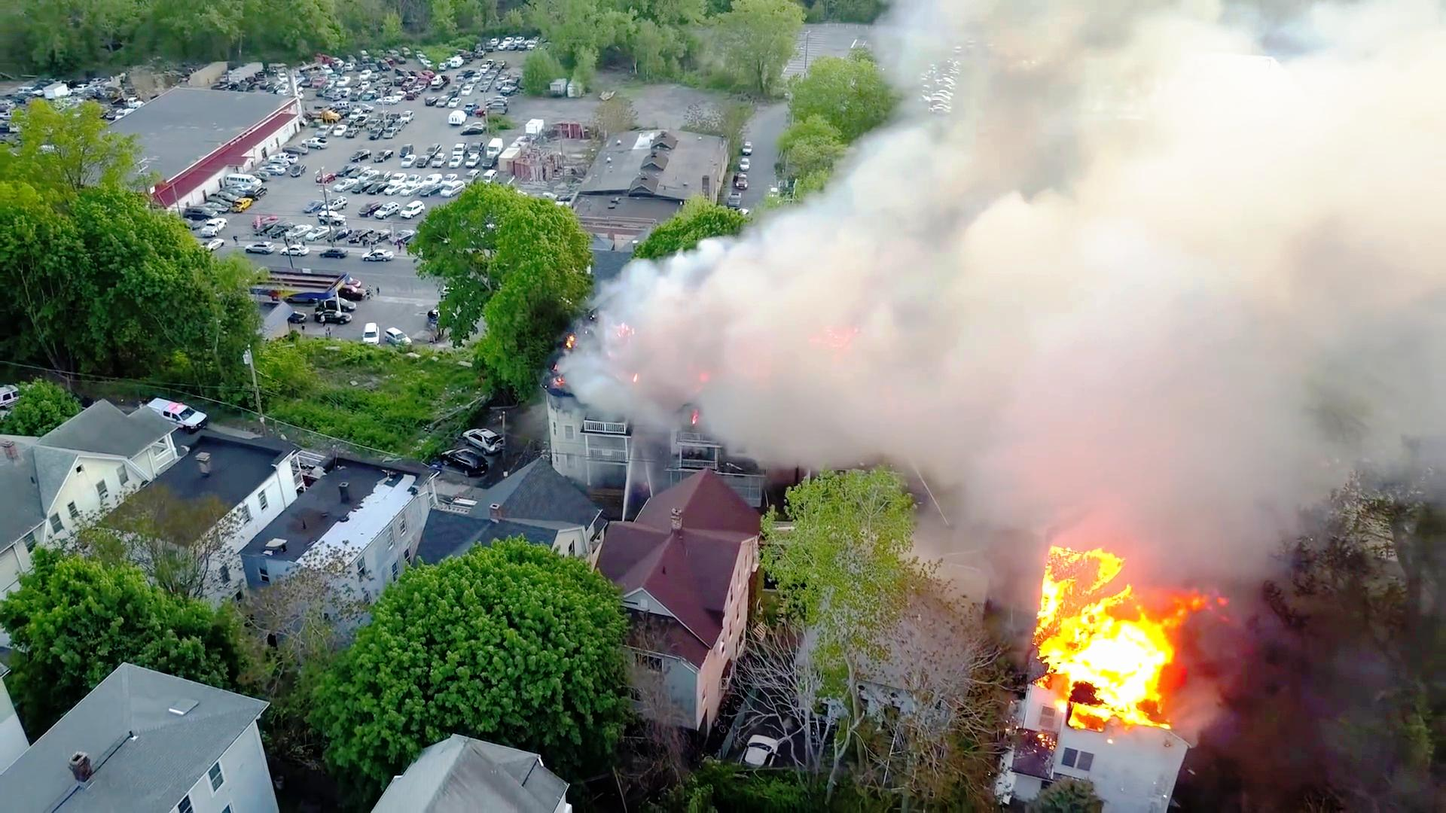fire: (1037, 526, 1178, 703)
smoke: (691, 253, 1446, 470)
